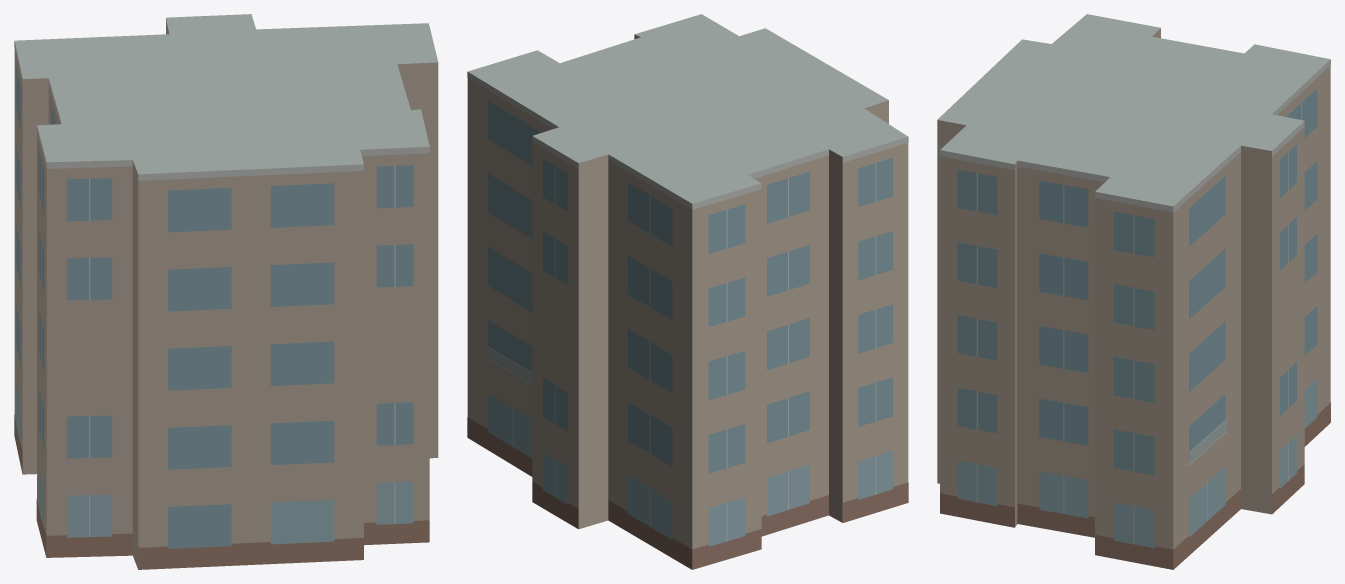
File: survey-upis-32793481.glb
The picture shows the model from 3 angles, left to right: view 1: azimuth 30°, elevation 25°; view 2: azimuth 150°, elevation 25°; view 3: azimuth 270°, elevation 25°; orthographic projection. The views are drawn at different scales.
Visible parts, largest first — view 1: survey-upis-32793481.tmp; view 2: survey-upis-32793481.tmp; view 3: survey-upis-32793481.tmp.
Part boxes in pixels (x1,y1,x2,y2): survey-upis-32793481.tmp: (14, 14, 438, 569); survey-upis-32793481.tmp: (467, 14, 908, 569); survey-upis-32793481.tmp: (937, 14, 1330, 569).
Size of the model in its own units: 16.94 by 14.9 by 14.64.
